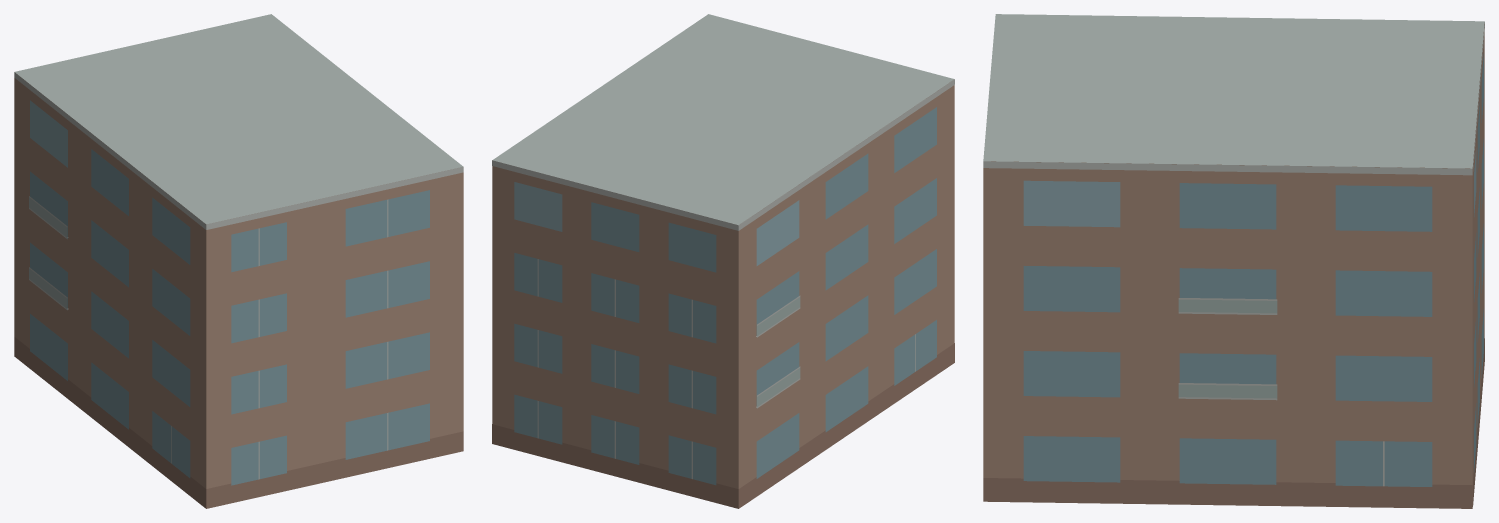
Rendered from residential-b9ab41eb-fad7-4746-a325-ac4056c03ad5.glb.
3 views of the same model, side by side, from view 1: azimuth 30°, elevation 25°; view 2: azimuth 150°, elevation 25°; view 3: azimuth 270°, elevation 25° (orthographic). The views are drawn at different scales.
Parts seen in each view (by area): view 1: residential-b9ab41eb-fad7-4746-a325-ac4056c03ad5.tmp; view 2: residential-b9ab41eb-fad7-4746-a325-ac4056c03ad5.tmp; view 3: residential-b9ab41eb-fad7-4746-a325-ac4056c03ad5.tmp.
Boxes of the visible parts, box(x1,y1,x2,y2) form: residential-b9ab41eb-fad7-4746-a325-ac4056c03ad5.tmp: box(14, 14, 463, 508); residential-b9ab41eb-fad7-4746-a325-ac4056c03ad5.tmp: box(492, 14, 954, 508); residential-b9ab41eb-fad7-4746-a325-ac4056c03ad5.tmp: box(983, 14, 1484, 508).
Bounding box in the file's own units: 11.88 × 12.2 × 16.3.
